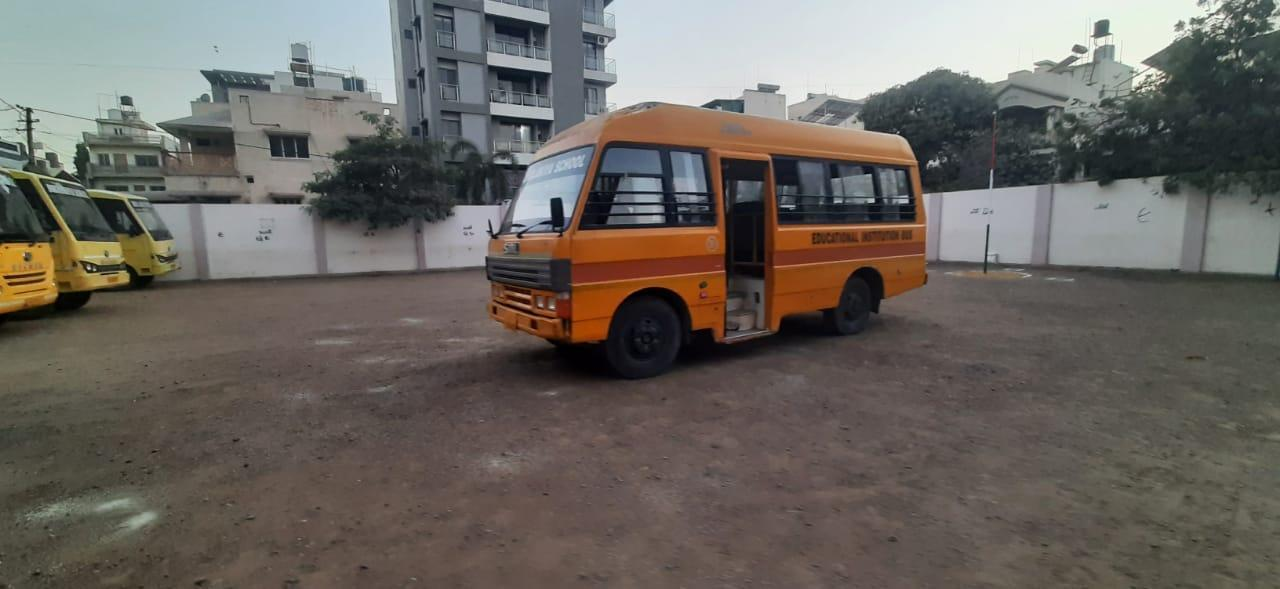Bus: (480, 84, 955, 370), (49, 179, 134, 306), (3, 180, 61, 323), (118, 188, 186, 293)
